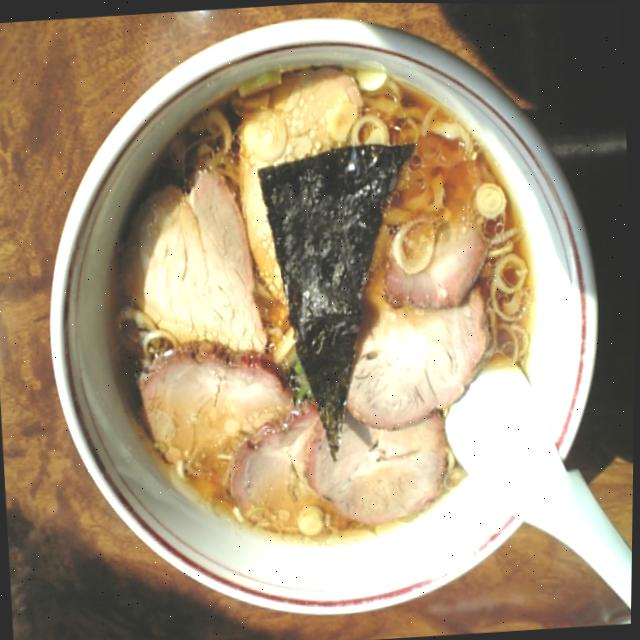面条主食: (82, 22, 559, 567)
